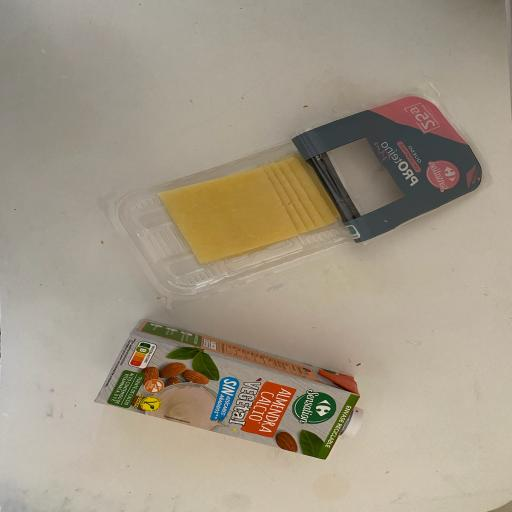cheese: (94, 63, 505, 316)
milk_almendra: (44, 309, 394, 480)
